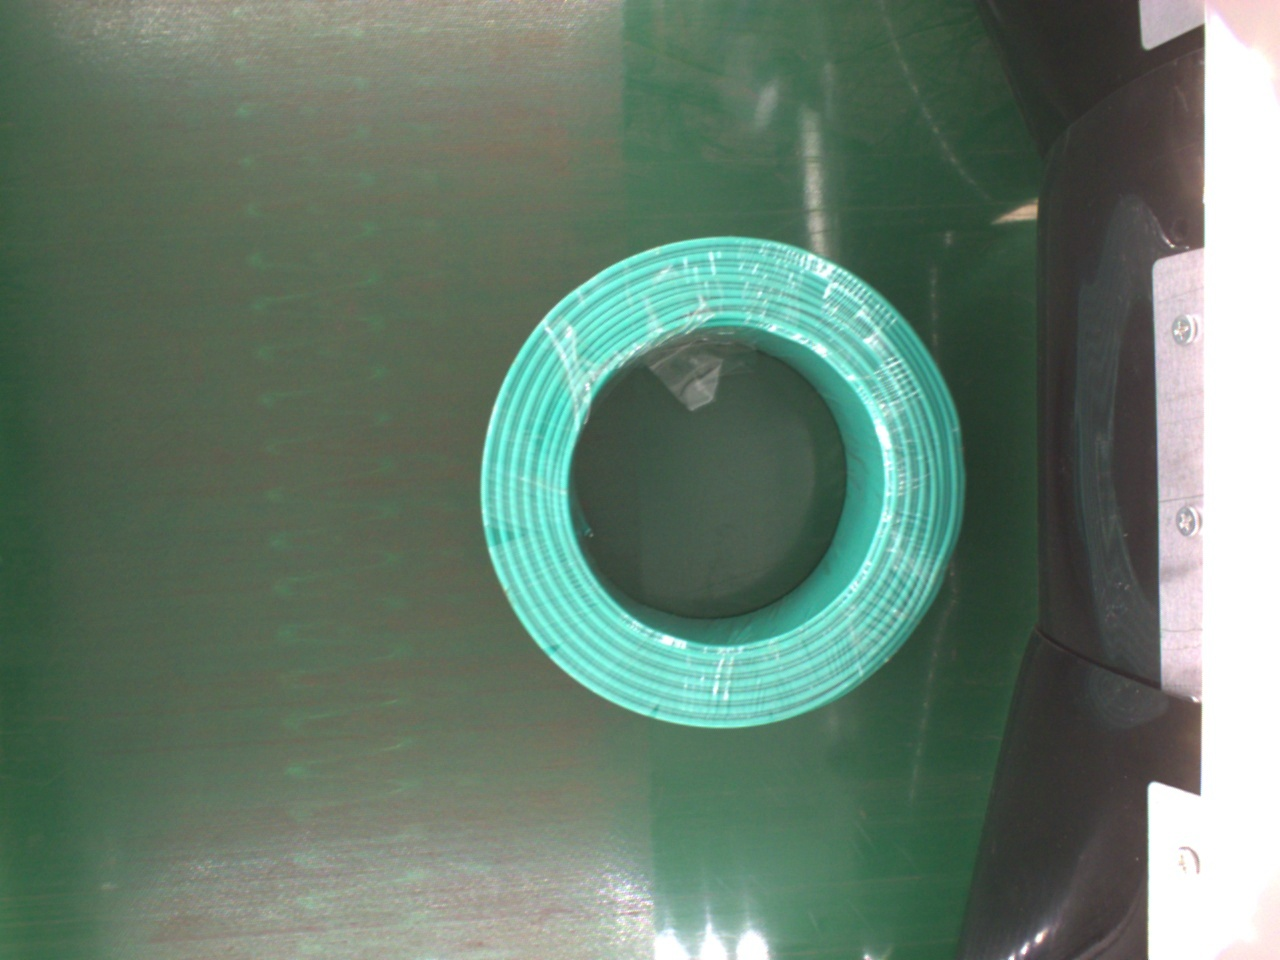green: (470, 232, 967, 733)
